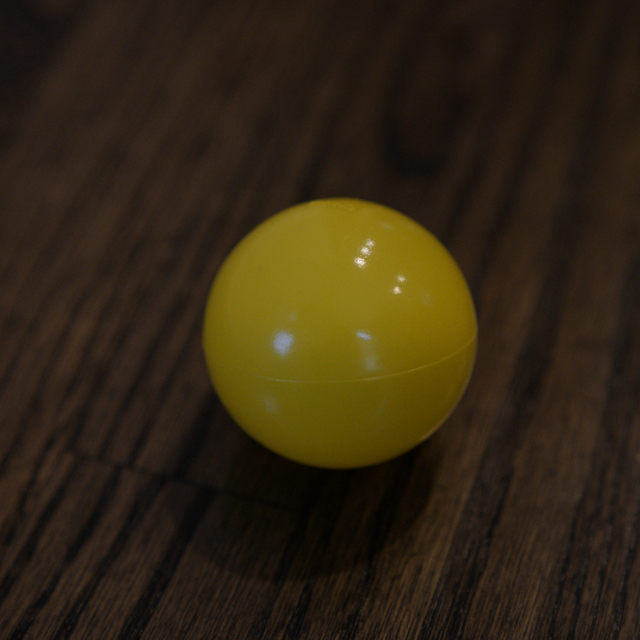Ball: (199, 198, 474, 468)
